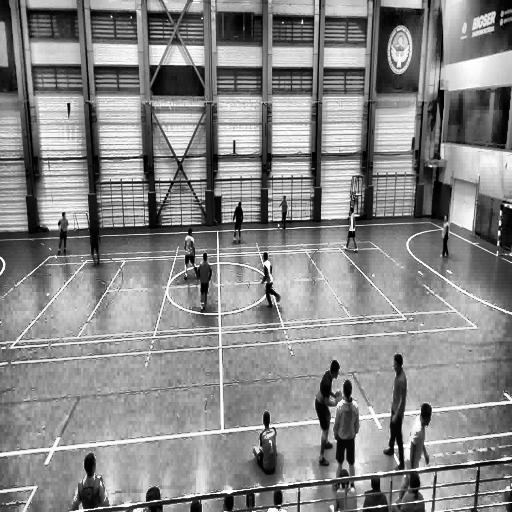ball: (277, 222, 281, 231)
player: (331, 381, 359, 487), (383, 354, 406, 468), (404, 403, 432, 483), (254, 410, 279, 476), (262, 251, 280, 308), (183, 226, 198, 278), (199, 252, 212, 312), (344, 206, 358, 253), (89, 214, 102, 264), (439, 214, 450, 259), (232, 200, 243, 244), (58, 211, 68, 254), (280, 195, 288, 229)
